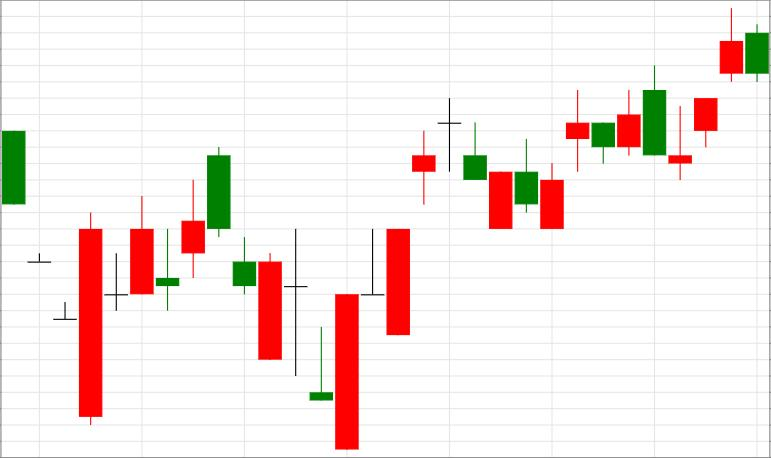bullish_engulfing_rise: (208, 147, 358, 450)
evening_star_fall: (336, 98, 487, 449)
